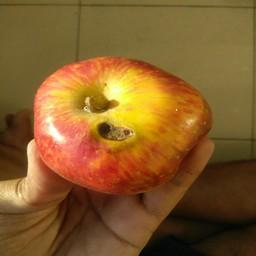Bad_apple: (26, 51, 214, 196)
